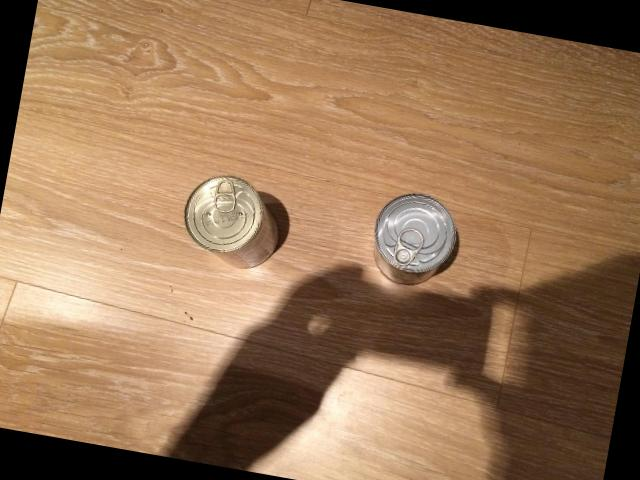metal: (185, 175, 278, 267), (374, 193, 456, 283)
